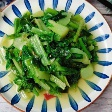youmaicai: (4, 9, 102, 98)
